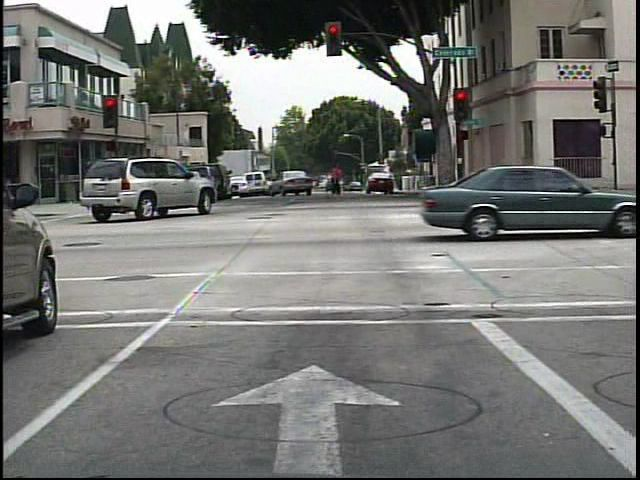person: (325, 157, 351, 202)
